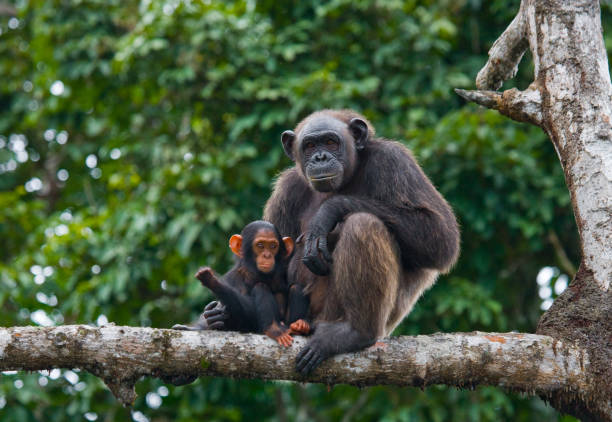chimpanzee: (269, 99, 387, 198), (216, 216, 300, 290)
